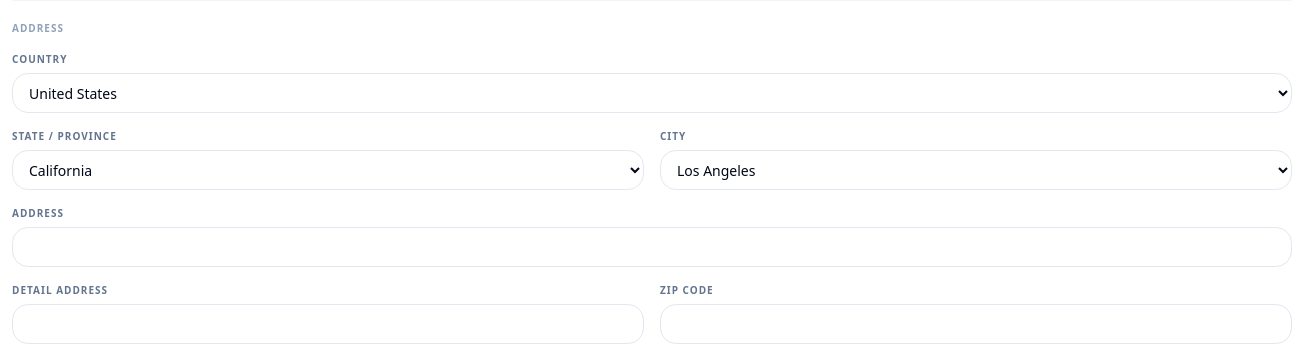
TC-P7-UI-ADDR-03: defaultValues 갱신 시 state/city 보존 (Issue #530) › 사용자가 국가 select를 직접 변경하면 state/city가 리셋됨 (기존 동작 보존)
# 직접 국가 변경 → 리셋되어야 함
Select "Japan" in the dropdown below "Country" at (652, 93), box [12,73,1292,113]
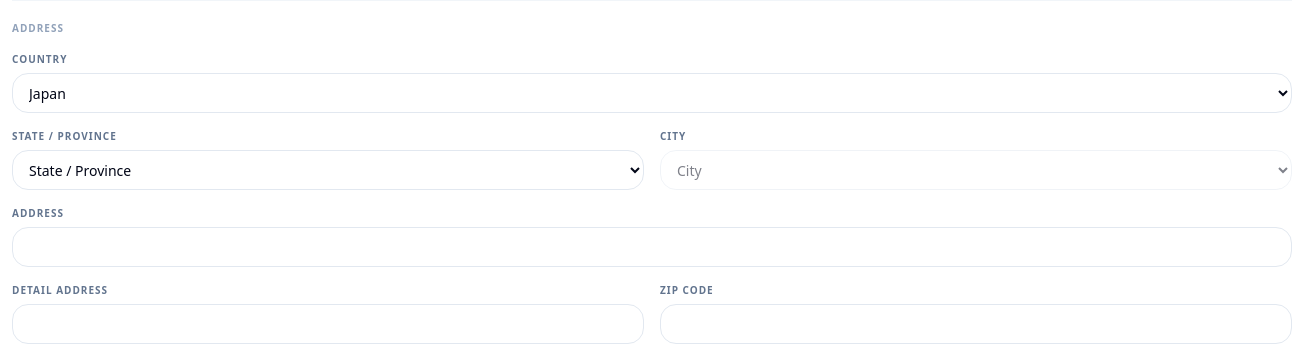
Expected: the dropdown below "State / Province" shows "State / Province", [12,150,644,190]
Expected: the dropdown below "City" shows "City", [660,150,1292,190]
